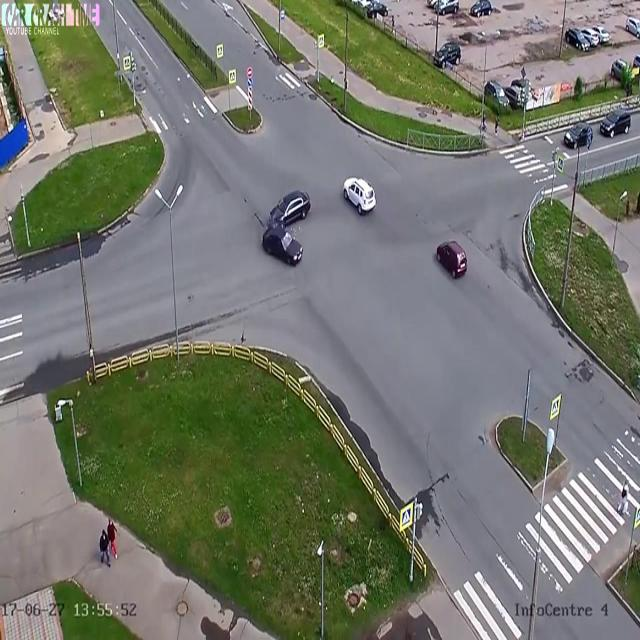accident: (254, 182, 320, 271)
